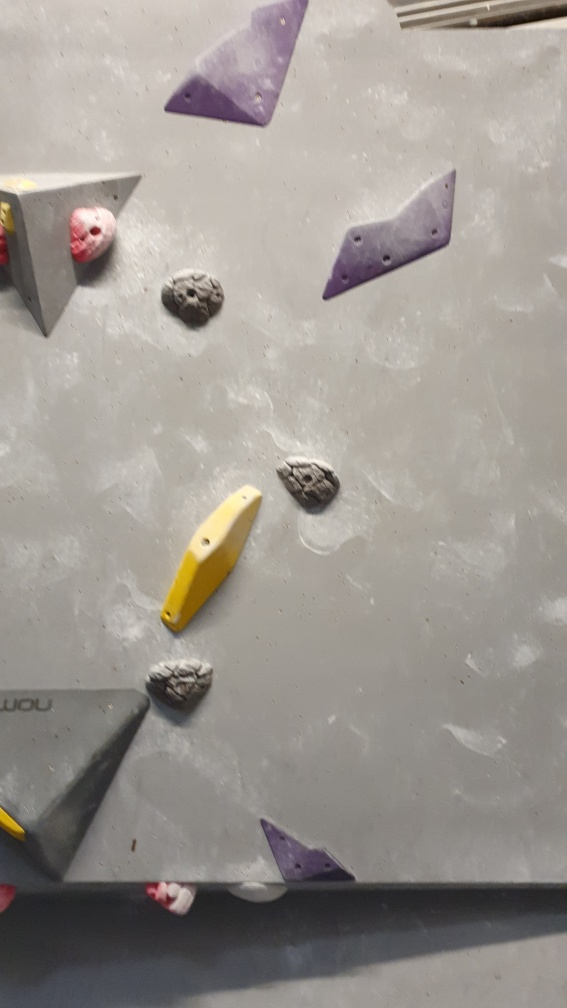Jug: (152, 270, 232, 329), (141, 654, 213, 716), (279, 455, 342, 524), (70, 197, 123, 265), (147, 881, 196, 917)
Pinch: (162, 484, 263, 635)
